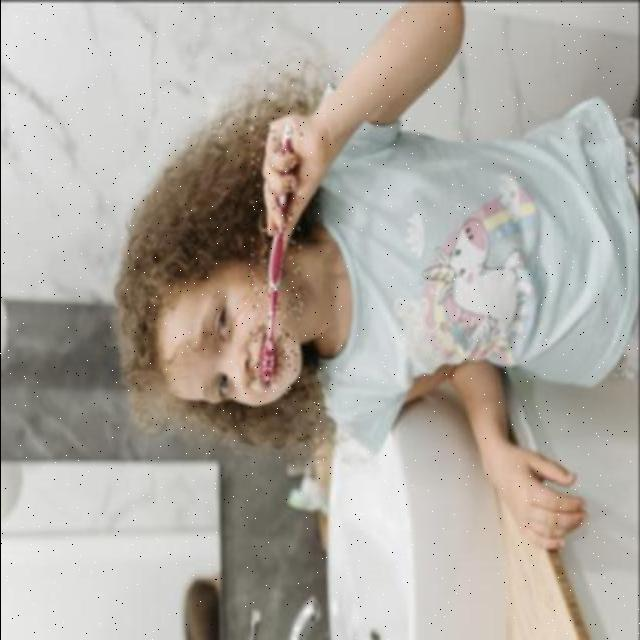toothbrush: (251, 120, 303, 392)
